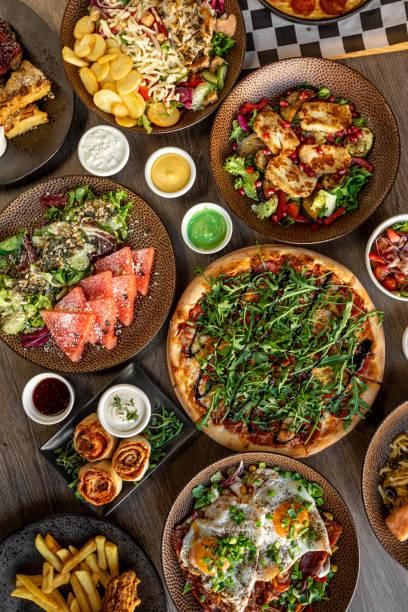Braised Crucian Carp: (157, 240, 388, 463), (208, 57, 400, 241), (2, 177, 178, 368), (159, 450, 356, 609), (58, 1, 240, 137), (37, 363, 199, 515)
